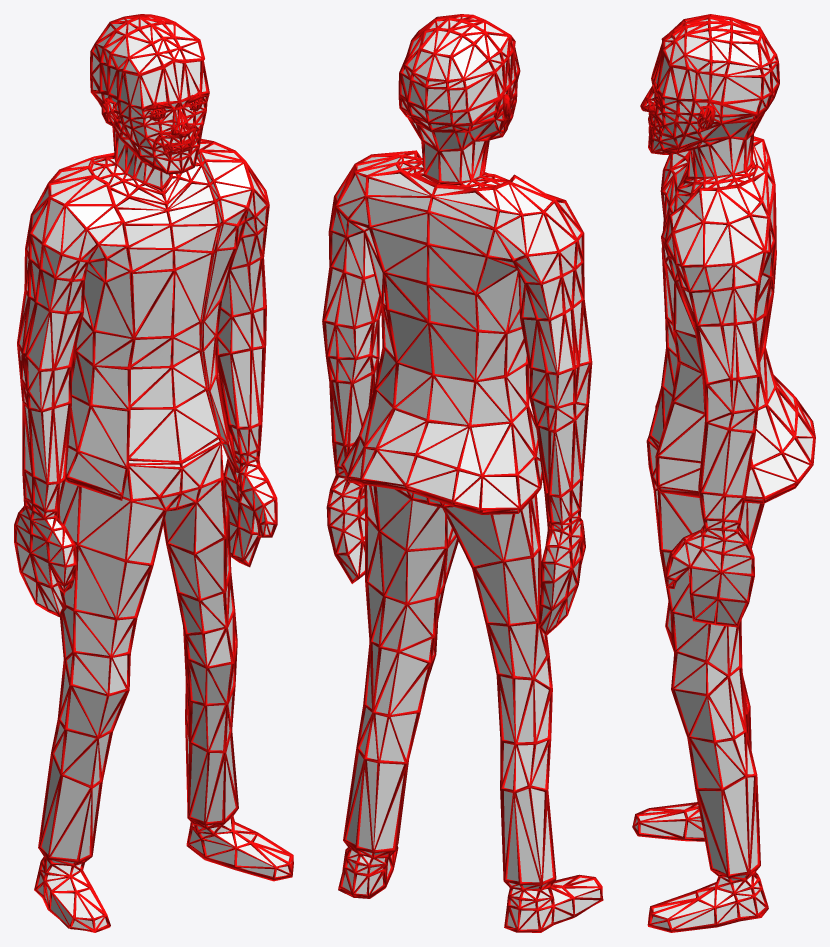
Rendered from elegantIdle_000003.obj.
The picture shows the model from 3 angles, left to right: view 1: azimuth 30°, elevation 25°; view 2: azimuth 150°, elevation 25°; view 3: azimuth 270°, elevation 25°; orthographic projection. The views are drawn at different scales.
Visible parts, largest first — view 1: BaseHuman_Cylinder.002; view 2: BaseHuman_Cylinder.002; view 3: BaseHuman_Cylinder.002.
Part boxes in pixels (left/top/right/bottom): BaseHuman_Cylinder.002: left=14, top=14, right=293, bottom=932; BaseHuman_Cylinder.002: left=322, top=14, right=603, bottom=932; BaseHuman_Cylinder.002: left=632, top=14, right=815, bottom=932.
Bounding box in the file's own units: 1.44 × 4.85 × 0.9469.
